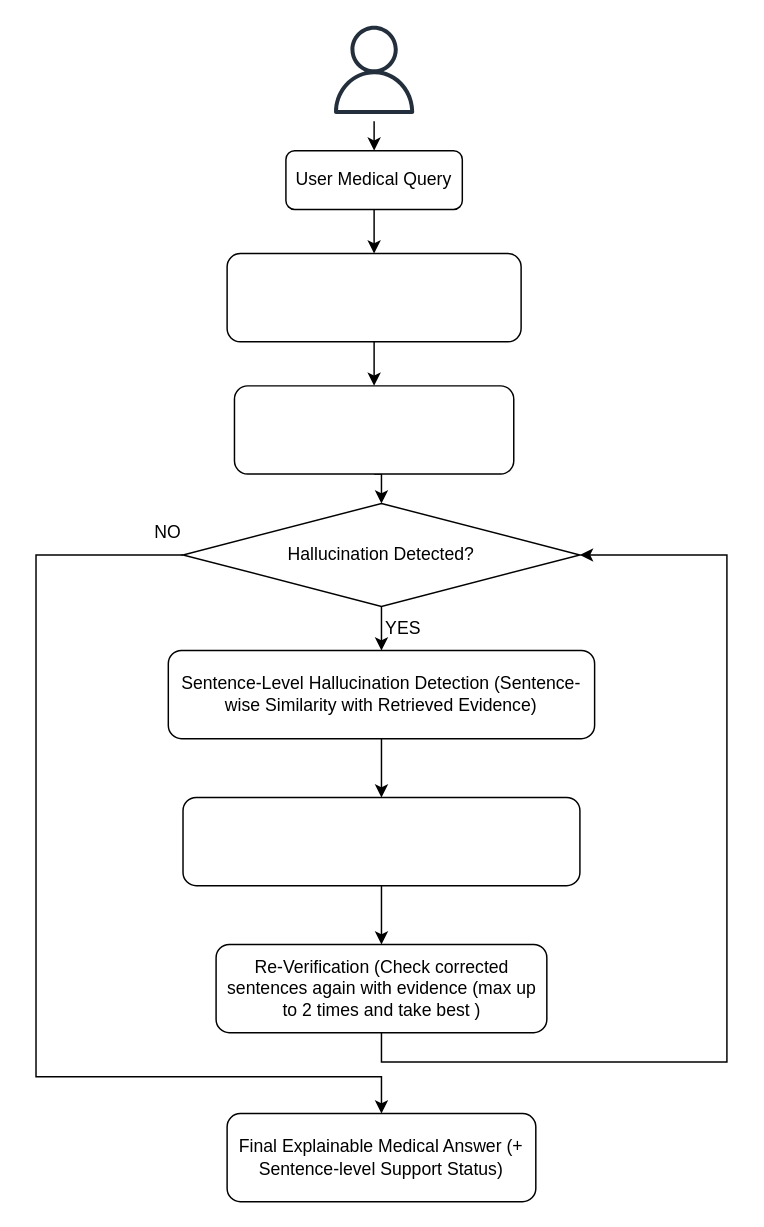
Image size: 764x1227. Some labels were removed from this diagram. Each missing label, with the centre of its shape:
"Biomedical Evidence Retrieval (Vector Database: PubMed)" goes at point 373,429.
"Initial Medical Answer Generation (LLM without Evidence)" goes at point 373,297.
"Targeted Self-Correction (Rewrite ONLY hallucinated sentences using evidence)" goes at point 381,841.
